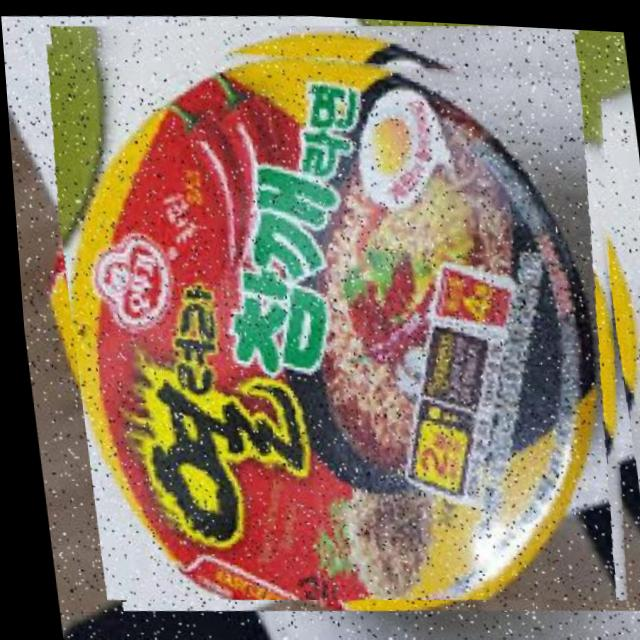Miscellaneous: (34, 6, 640, 622)
